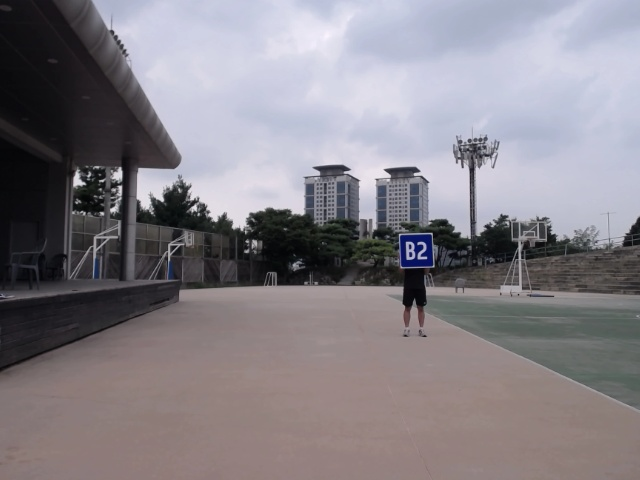delivery_b2: (398, 232, 436, 270)
